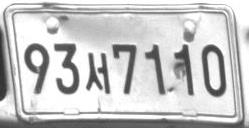0: (201, 44, 226, 97)
1: (143, 43, 168, 95), (172, 44, 197, 95)
3: (53, 42, 79, 94)
7: (111, 43, 137, 94)
9: (23, 43, 50, 94)
서: (85, 52, 111, 94)
